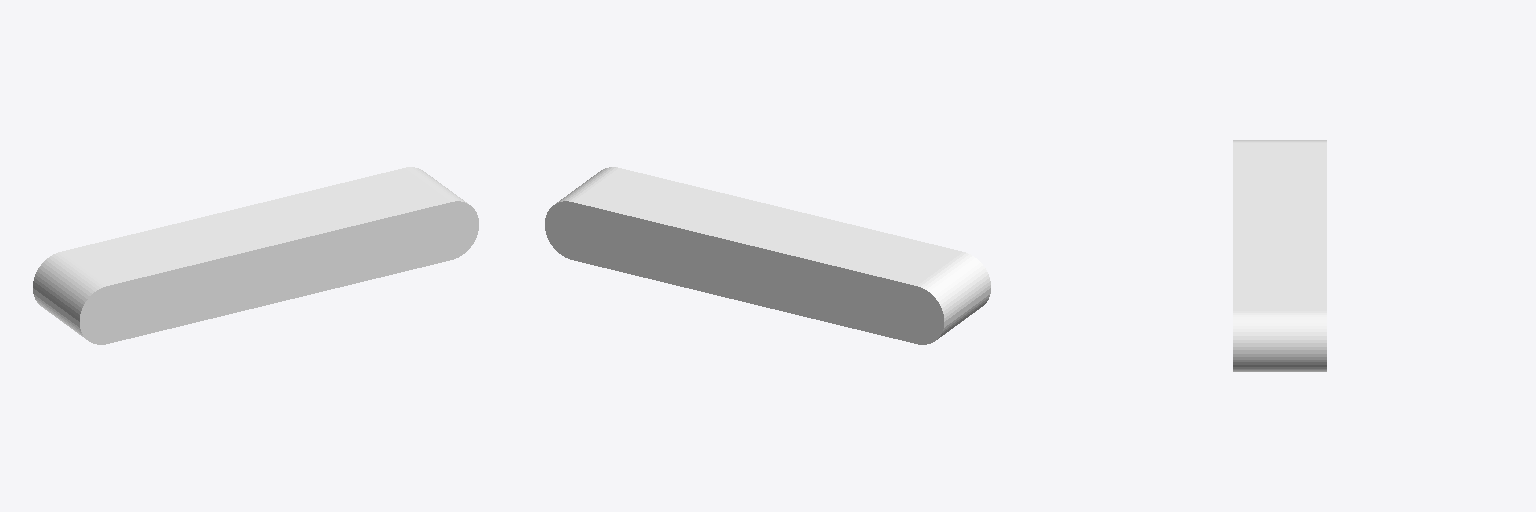
The model's file is xtion.obj.
The picture shows the model from 3 angles: view 1: azimuth 30°, elevation 25°; view 2: azimuth 150°, elevation 25°; view 3: azimuth 270°, elevation 25°; orthographic projection.
Size of the model in its own units: 0.18 by 0.025 by 0.0365.